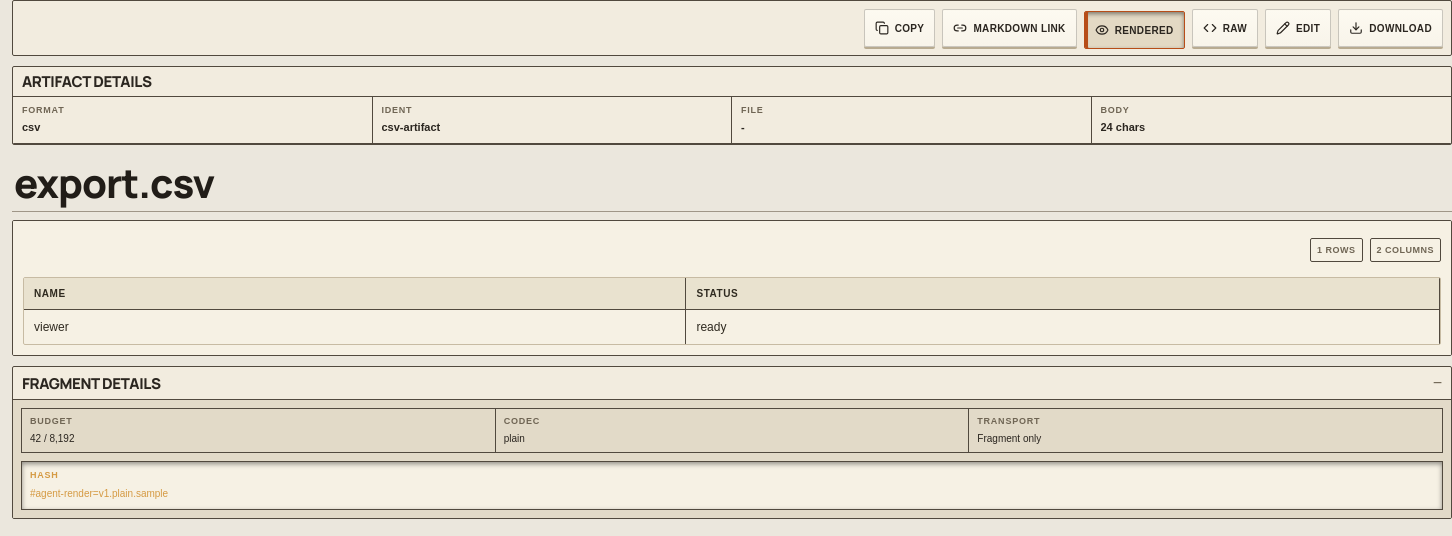
ArtifactStage raw view › renders csv raw mode on the highlighted file surface with a csv hint
Click the button "Raw": (1225, 28) [1192, 9, 1258, 47]
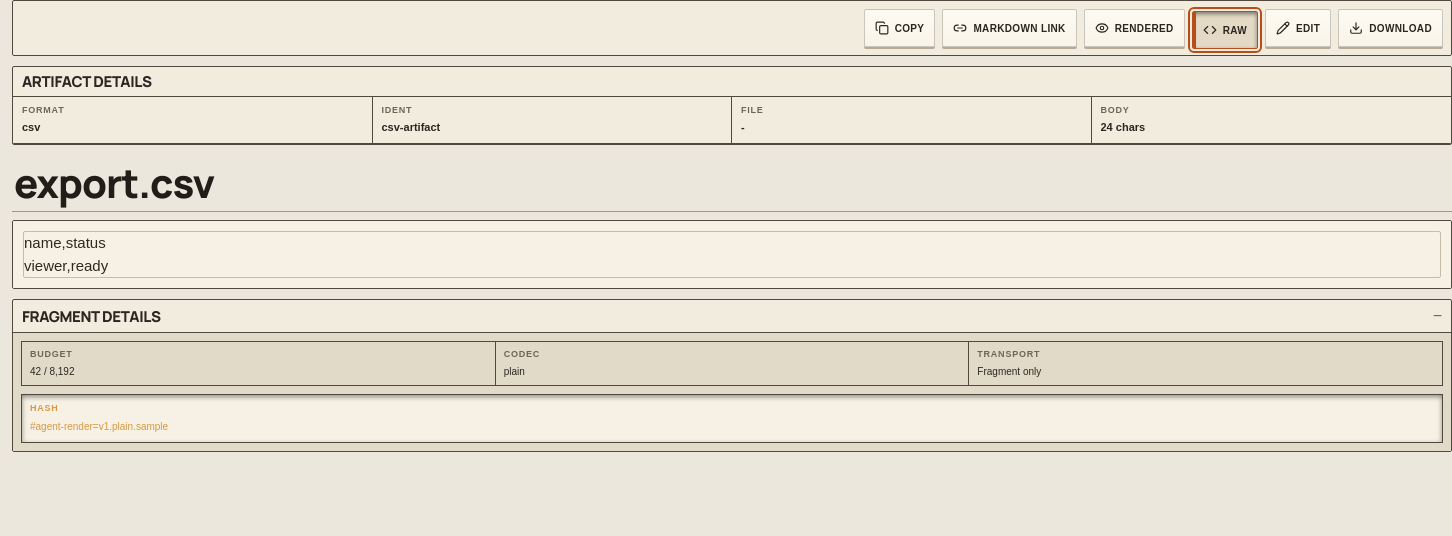
Check: the element with test id "renderer-csv-raw" shows "name,status", box [24, 234, 108, 274]
